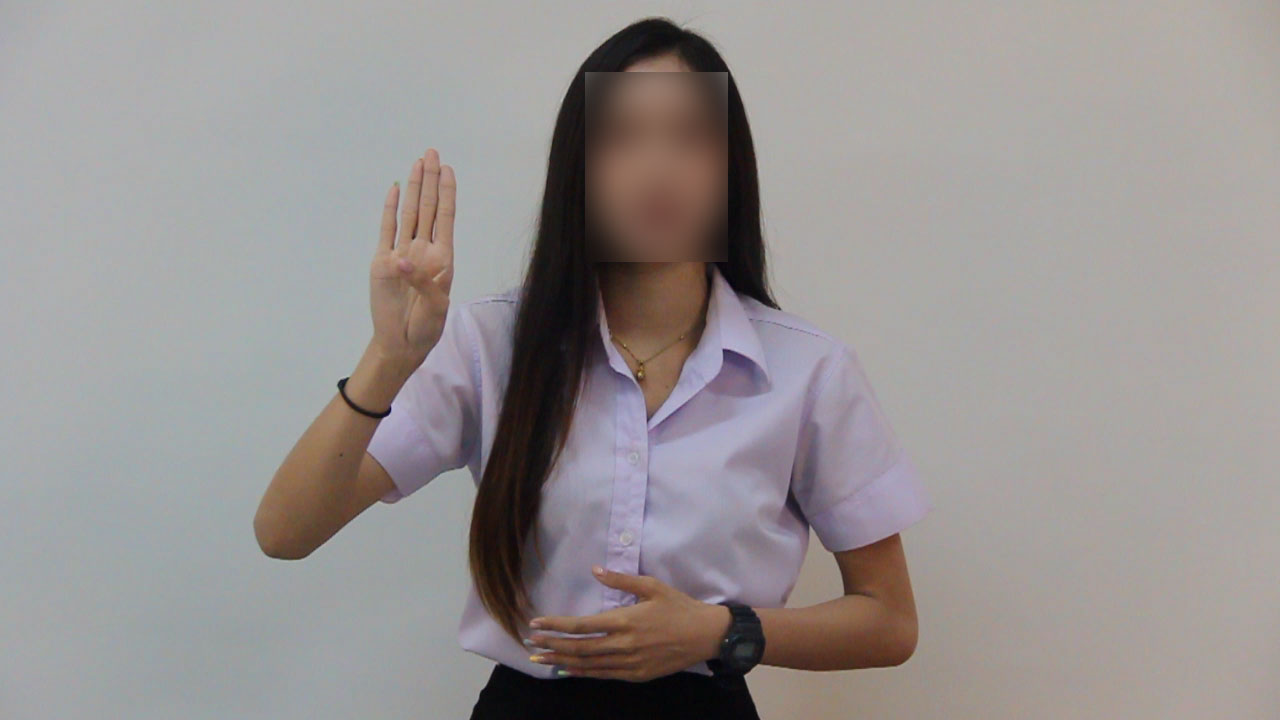bor: (349, 133, 477, 376)
